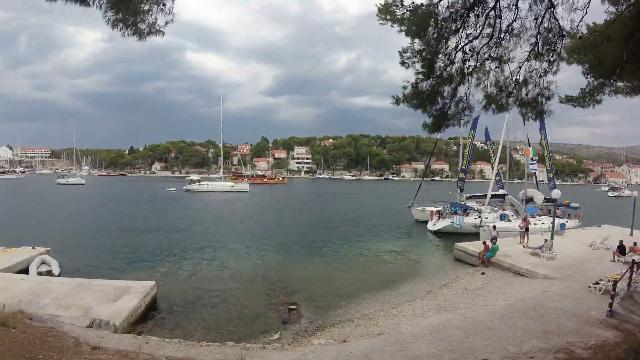Freighter: (223, 167, 290, 187)
Sailboat: (177, 170, 255, 196), (53, 172, 89, 188)
